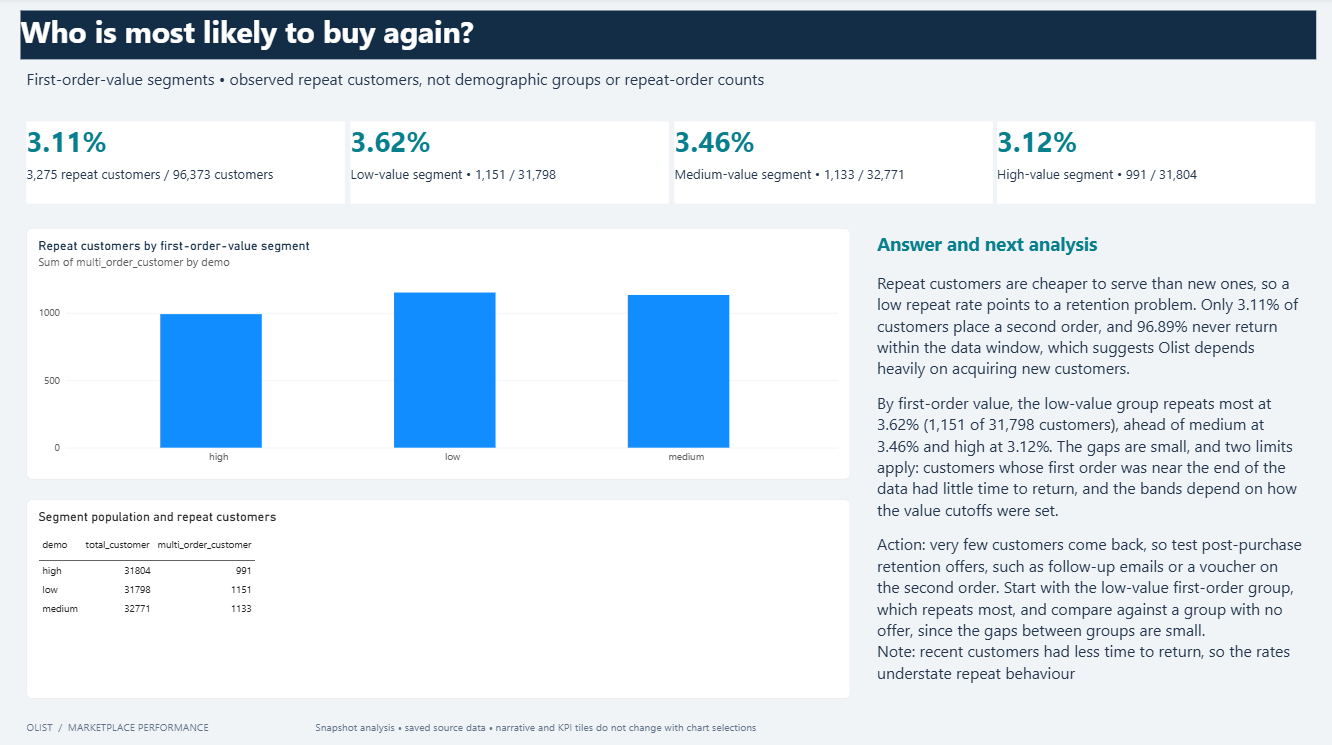

The page's visual inventory and layout, read from the dashboard file:
{"tool":"powerbi","page":{"name":"06 | Repeat customers","canvas":[1920,1080],"ordinal":5},"visuals":[{"type":"textbox","box":[32,20,1856,70],"z":0},{"type":"textbox","box":[40,100,1840,62],"z":1000},{"type":"textbox","box":[40,1035,1840,30],"z":2000},{"type":"textbox","box":[40,178,456,62],"z":3000},{"type":"textbox","box":[40,240,456,55],"z":4000},{"type":"textbox","box":[504,178,456,62],"z":5000},{"type":"textbox","box":[504,240,456,55],"z":6000},{"type":"textbox","box":[968,178,456,62],"z":7000},{"type":"textbox","box":[968,240,456,55],"z":8000},{"type":"textbox","box":[1432,178,456,62],"z":9000},{"type":"textbox","box":[1432,240,456,55],"z":10000},{"type":"clusteredColumnChart","title":"Repeat customers by first-order-value segment","fields":{"Category":["public q7_value_demog.demo"],"Y":["Sum(public q7_value_demog.multi_order_customer)"]},"box":[40,330,1180,360],"z":11000},{"type":"tableEx","title":"Segment population and repeat customers","fields":{"Values":["public q7_value_demog.demo","public q7_value_demog.total_customer","public q7_value_demog.multi_order_customer"]},"box":[40,720,1180,285],"z":12000},{"type":"textbox","box":[1260,335,610,48],"z":13000},{"type":"textbox","box":[1260,393,610,592],"z":14000}]}

Visuals, with their boxes in screenshot pixels (x1, y1, x2, y2), scaled from the page's 1920x1080 canvas onto the 1332x745 screenshot:
textbox: box=[22, 14, 1310, 62]
textbox: box=[28, 69, 1304, 112]
textbox: box=[28, 714, 1304, 735]
textbox: box=[28, 123, 344, 166]
textbox: box=[28, 166, 344, 203]
textbox: box=[350, 123, 666, 166]
textbox: box=[350, 166, 666, 203]
textbox: box=[672, 123, 988, 166]
textbox: box=[672, 166, 988, 203]
textbox: box=[993, 123, 1310, 166]
textbox: box=[993, 166, 1310, 203]
"Repeat customers by first-order-value segment" clusteredColumnChart: box=[28, 228, 846, 476]
"Segment population and repeat customers" tableEx: box=[28, 497, 846, 693]
textbox: box=[874, 231, 1297, 264]
textbox: box=[874, 271, 1297, 679]
